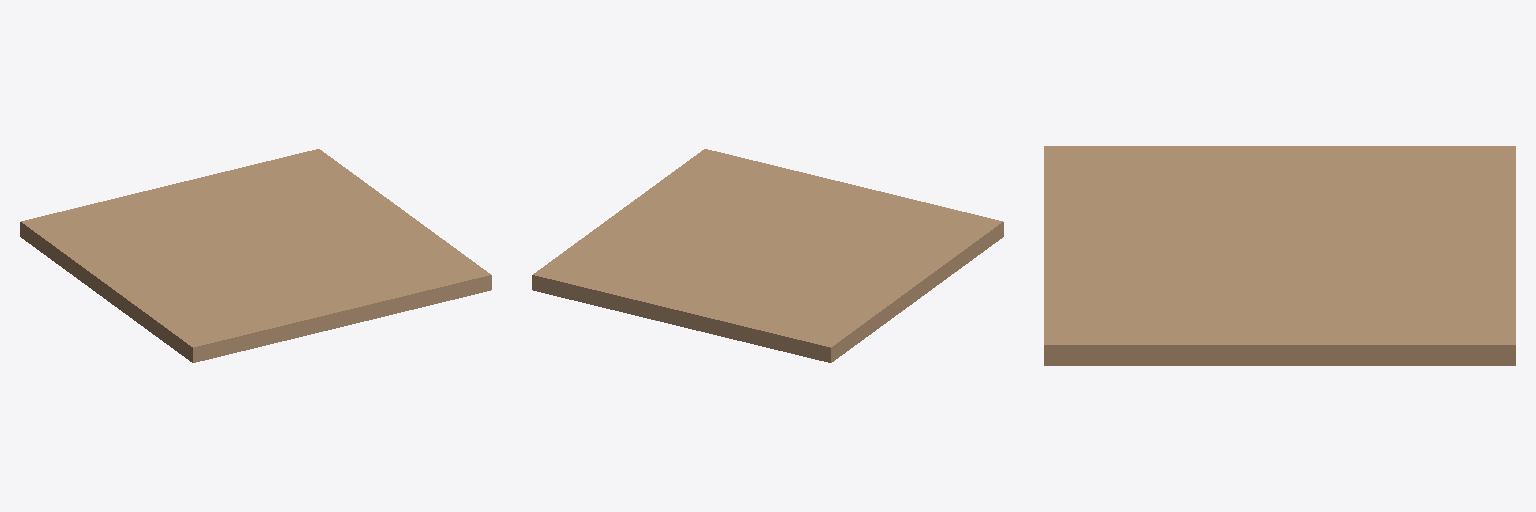
robot.urdf — plane:
<?xml version="1.1" ?> 
<robot name="plane"> 

  <link name="box">
    <contact>
        <lateral_friction value="1"/>
    </contact>

    <inertial>
      <origin rpy="0 0 0" xyz="0 0 0"/>
      <mass value=".0"/>
      <inertia ixx="0" ixy="0" ixz="0" iyy="0" iyz="0" izz="0"/>
    </inertial>

    <visual>
      <origin rpy="0 0 0" xyz="0.0 0.0 0.0"/>
      <geometry>
        <box size="0.4 0.4 0.02"/>
      </geometry>
      <material name="table_gray"/>
    </visual>

    <collision>
      <origin rpy="0 0 0" xyz="0.0 0.0 0.0"/>
      <geometry>
        <box size="0.4 0.4 0.02"/>
      </geometry>
    </collision>

  </link>

  <material name="table_gray">
    <color rgba=".7686 .6431 .5176 1."/>
  </material>
</robot>

--- Facts derived from the render (not from the file) ---
Views: 3 orthographic renders of the robot side by side, from view 1: azimuth 30°, elevation 25°; view 2: azimuth 150°, elevation 25°; view 3: azimuth 270°, elevation 25°.
Robot: plane — 1 links, 0 joints (none); root link box; default pose: all joints at 0.
Visible links, largest first — view 1: box; view 2: box; view 3: box.
Boxes of the visible links, x1,y1,x2,y2 form: box: (20, 149, 491, 362); box: (532, 149, 1003, 362); box: (1044, 146, 1515, 365).
Bounding box of the posed robot: 0.4 × 0.4 × 0.02 m (x, y, z).
Geometry: primitives only (box / cylinder / sphere), no mesh files.